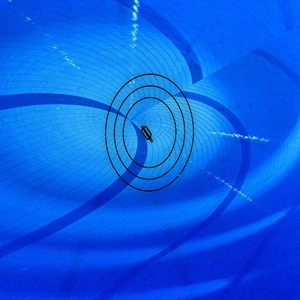circle: (102, 71, 199, 197)
submarine: (135, 121, 158, 146)
